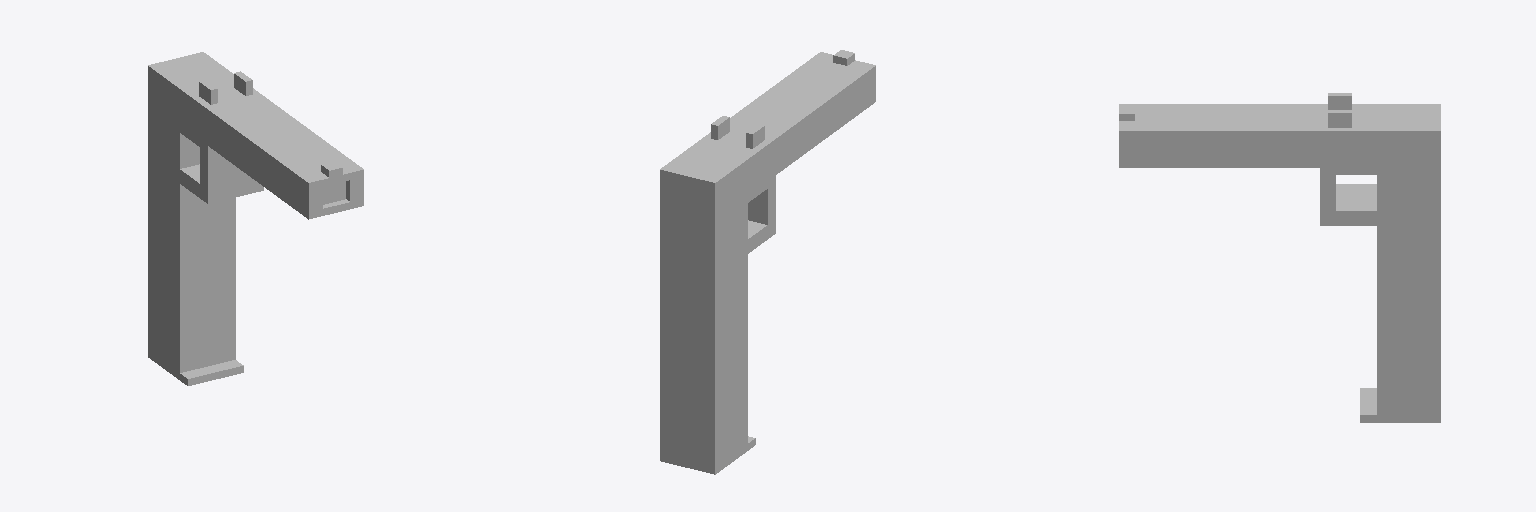
Rendered from Gun.obj.
3 renders of one model, left to right at view 1: azimuth 30°, elevation 25°; view 2: azimuth 150°, elevation 25°; view 3: azimuth 270°, elevation 25°, orthographic.
Visible parts, largest first — view 1: object 1; view 2: object 1; view 3: object 1.
Part boxes in pixels (bbox=[...]): object 1: bbox=[148, 52, 363, 385]; object 1: bbox=[660, 50, 875, 474]; object 1: bbox=[1119, 93, 1440, 422].
Bounding box in the file's own units: 0.8 × 4.2 × 4.